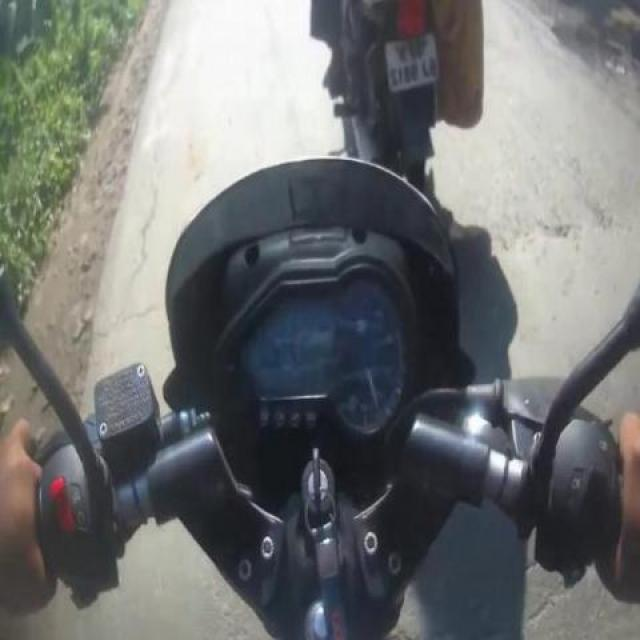Unmarked Bump: (457, 124, 640, 300), (88, 298, 163, 362)
